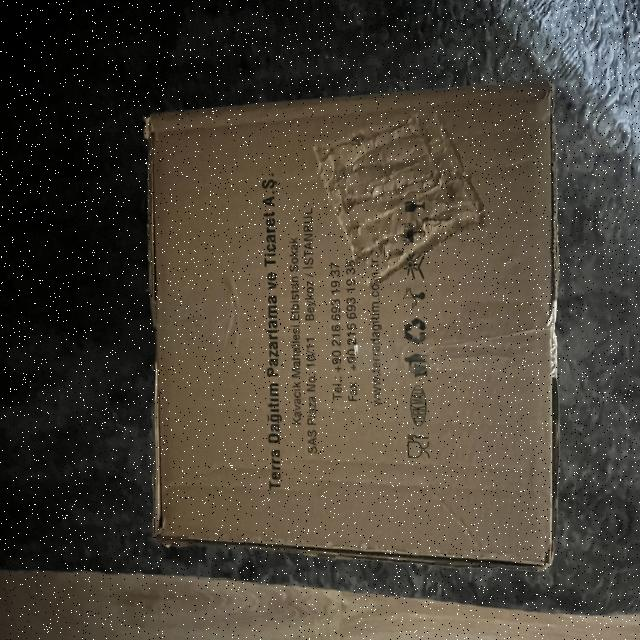damaged: (136, 80, 564, 580), (310, 105, 498, 302)
